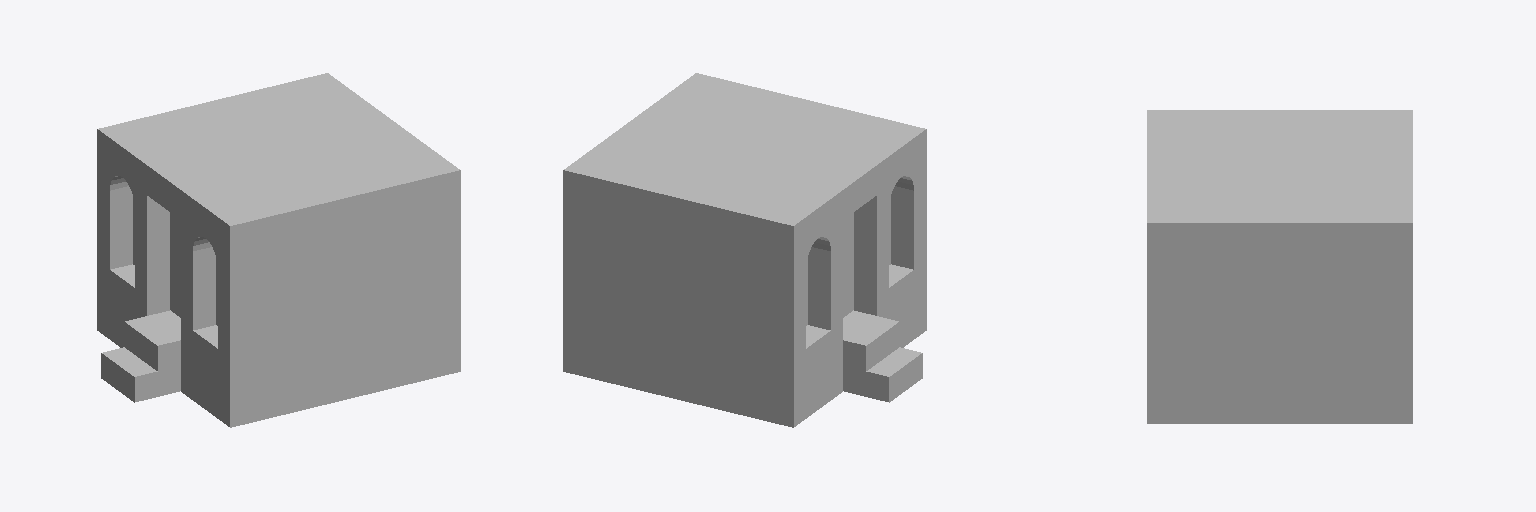
3 views of the same model, side by side, from view 1: azimuth 30°, elevation 25°; view 2: azimuth 150°, elevation 25°; view 3: azimuth 270°, elevation 25° (orthographic).
Parts seen in each view (by area): view 1: G-__555780_G-__555780_Brick, G-__555780_G-__555780_Dark_brick, G-__555780_G-__555780_Glass; view 2: G-__555780_G-__555780_Brick, G-__555780_G-__555780_Dark_brick, G-__555780_G-__555780_Glass; view 3: G-__555780_G-__555780_Brick, G-__555780_G-__555780_Dark_brick.
Boxes of the visible parts, x1,y1,x2,y2 form: G-__555780_G-__555780_Brick: [97, 73, 460, 376]; G-__555780_G-__555780_Dark_brick: [97, 280, 460, 427]; G-__555780_G-__555780_Glass: [133, 198, 217, 325]; G-__555780_G-__555780_Brick: [563, 73, 926, 376]; G-__555780_G-__555780_Dark_brick: [563, 280, 926, 427]; G-__555780_G-__555780_Glass: [806, 198, 890, 325]; G-__555780_G-__555780_Brick: [1147, 110, 1412, 372]; G-__555780_G-__555780_Dark_brick: [1147, 373, 1412, 423].
Bounding box in the file's own units: 1.2 × 0.8375 × 1.